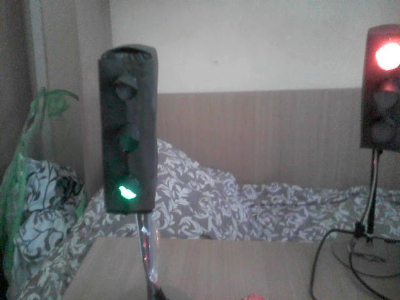trafficlight_green: (97, 54, 154, 212)
trafficlight_red: (360, 31, 400, 147)
